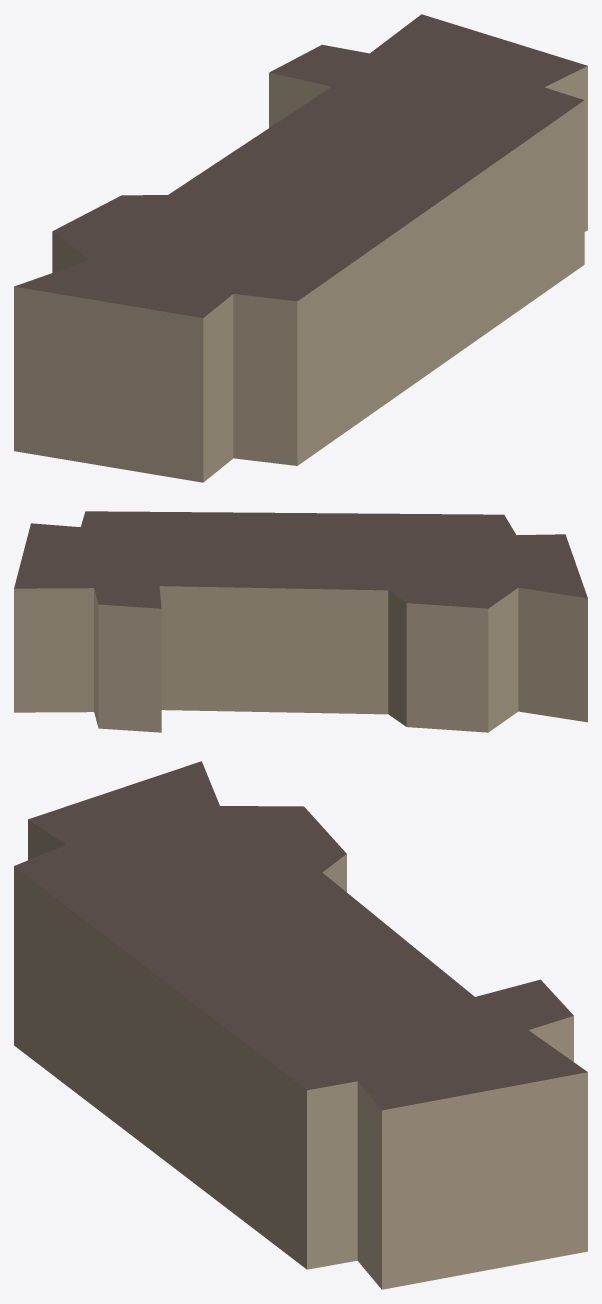
The picture shows the model from 3 angles, top to bottom: view 1: azimuth 30°, elevation 25°; view 2: azimuth 150°, elevation 25°; view 3: azimuth 270°, elevation 25°; orthographic projection. The views are drawn at different scales.
Parts seen in each view (by area): view 1: HP-w1512359827; view 2: HP-w1512359827; view 3: HP-w1512359827.
Boxes of the visible parts, box(x1,y1,x2,y2) form: HP-w1512359827: box(14, 14, 587, 482); HP-w1512359827: box(14, 511, 587, 732); HP-w1512359827: box(14, 761, 587, 1289).
Size of the model in its own units: 37.58 by 9 by 26.1.
